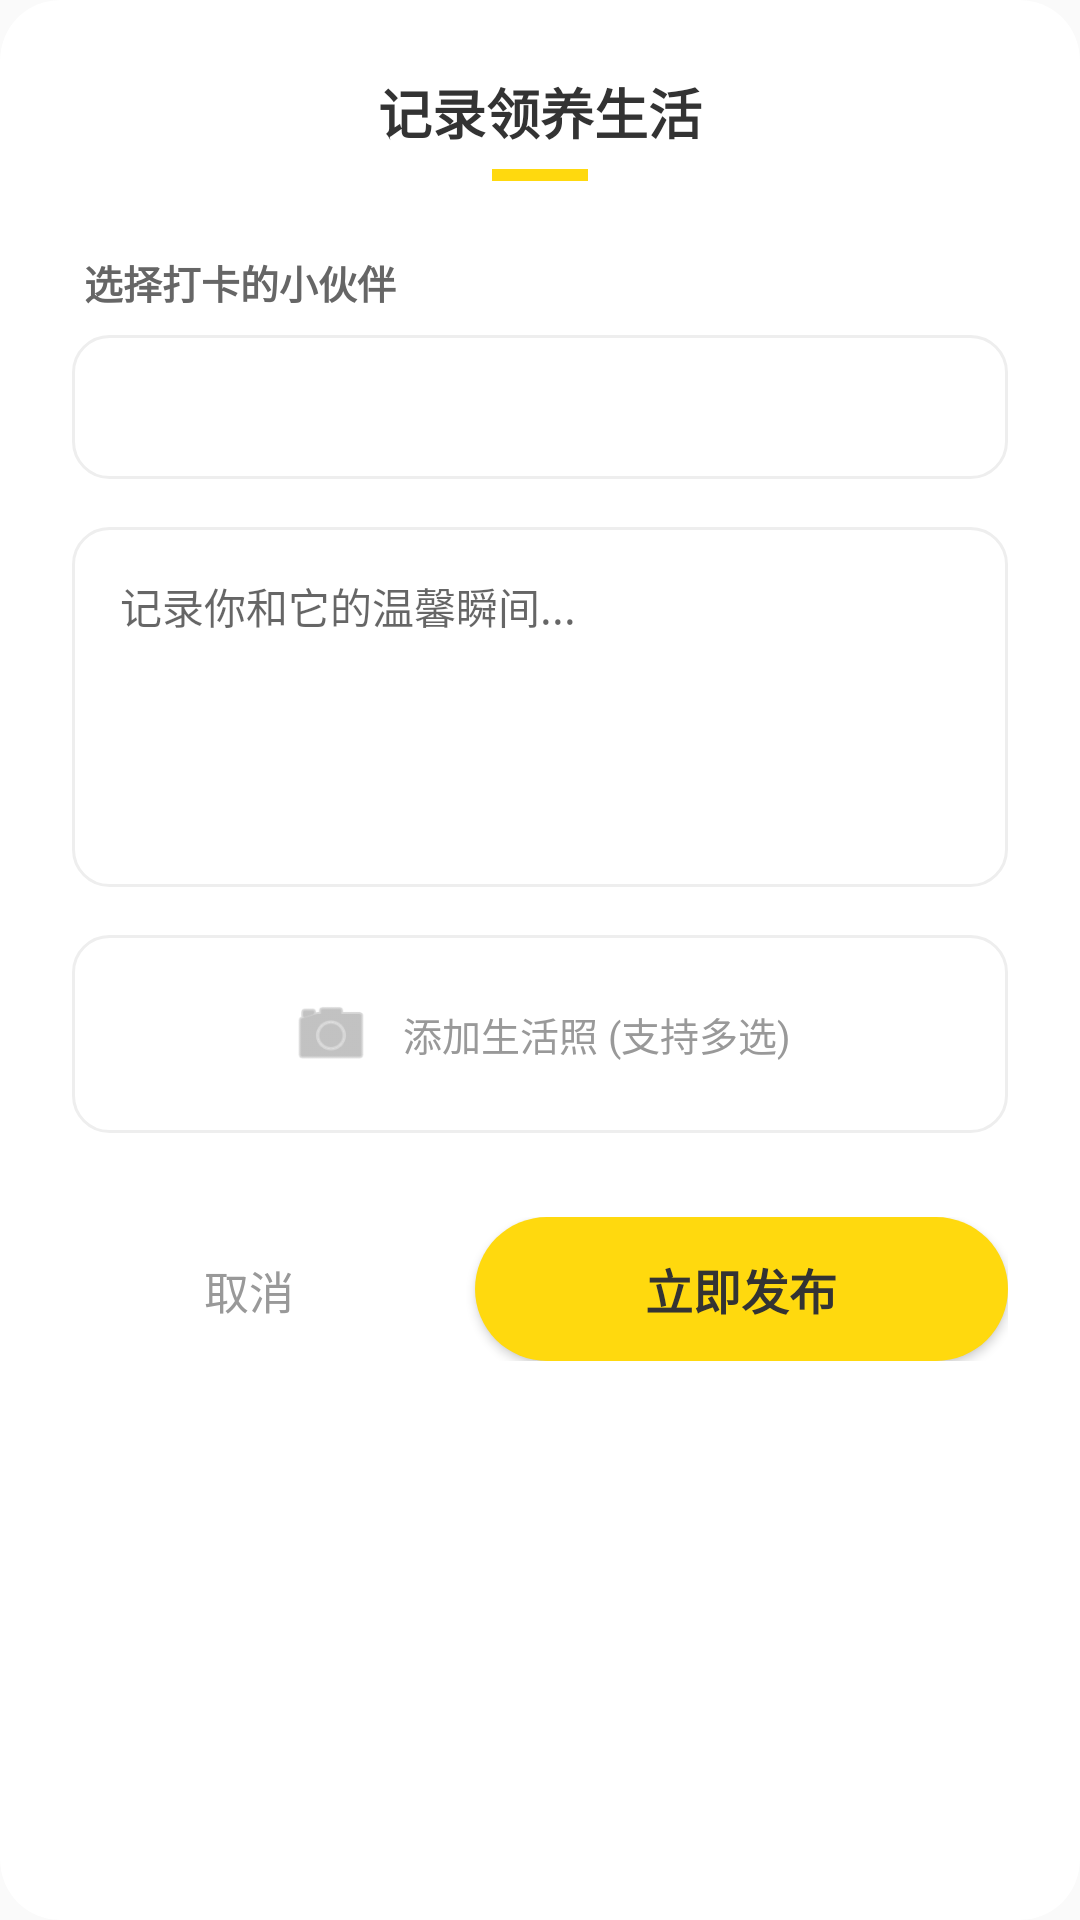

Named icons in this screenshot (1080 × 1920) and their bounding boxes, (x1, y1, x2, y2):
camera: (299, 1007, 363, 1058)
